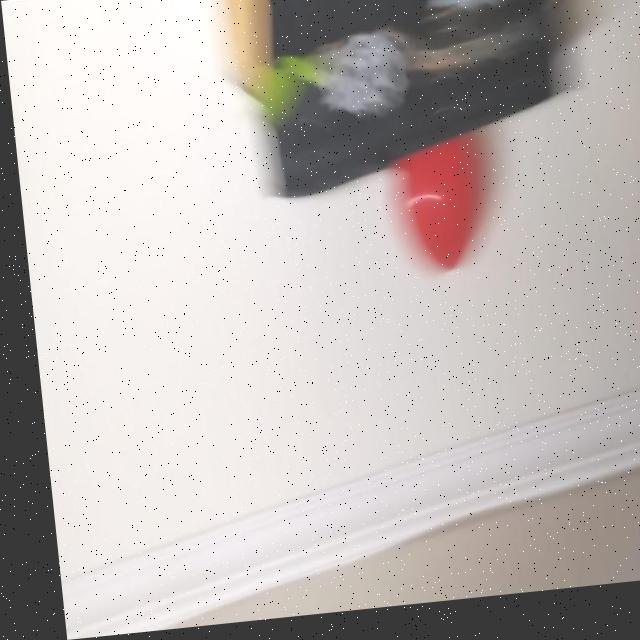balloon: (390, 146, 494, 310)
